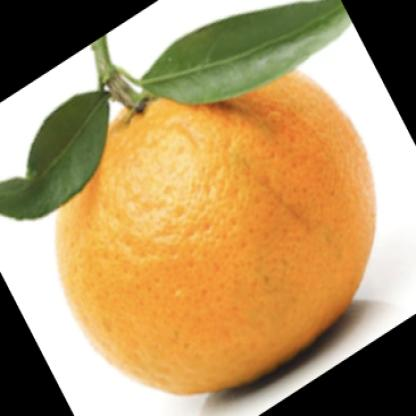fresh: (56, 35, 379, 397)
